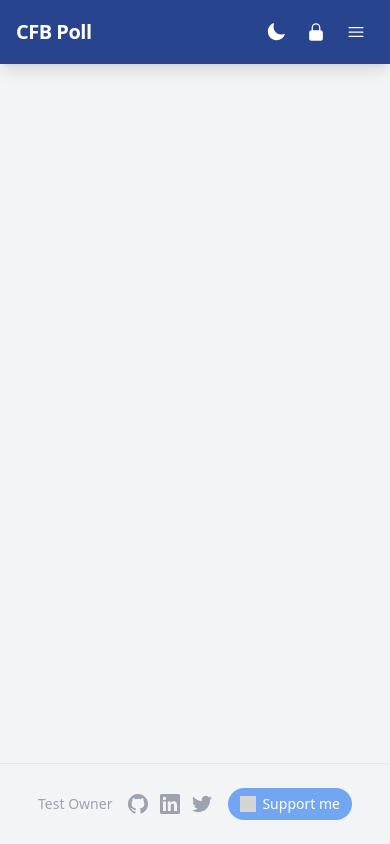
Test: Layout › opens mobile menu with grouped sections
Click the button named "Open menu". click: click(356, 32)
box: [338, 14, 374, 50]
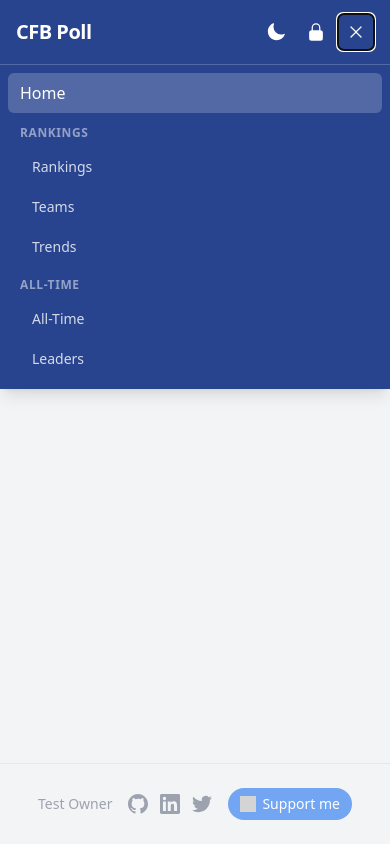
Check: the button named "Close menu" is shown, box [338, 14, 374, 50]
Check: the text "Home" is shown 2 times
